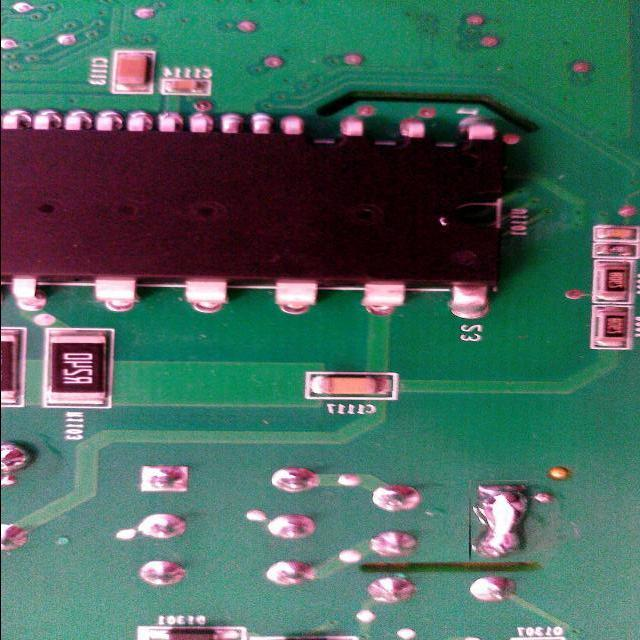Short_circuit: (470, 480, 528, 562)
